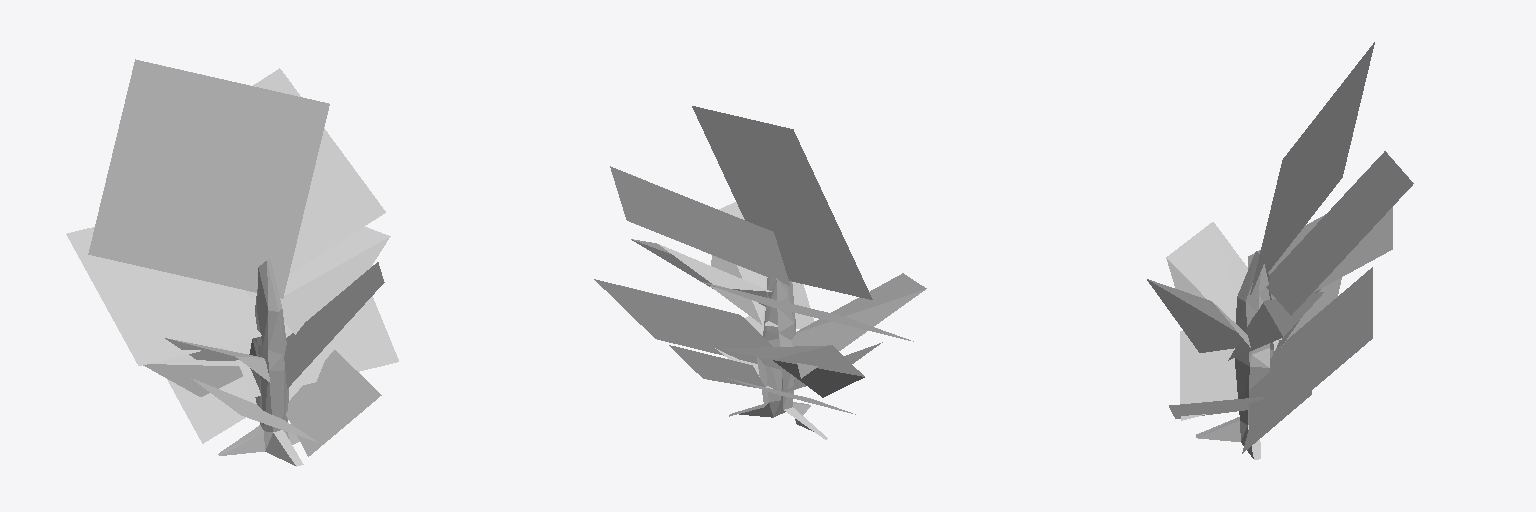
File: Cut Tree.obj
3 renders of one model, left to right at view 1: azimuth 30°, elevation 25°; view 2: azimuth 150°, elevation 25°; view 3: azimuth 270°, elevation 25°, orthographic.
Parts seen in each view (by area): view 1: Cut_Tree; view 2: Cut_Tree; view 3: Cut_Tree.
Part boxes in pixels (left/top/right/bottom): Cut_Tree: left=66, top=59, right=398, bottom=466; Cut_Tree: left=594, top=106, right=926, bottom=439; Cut_Tree: left=1147, top=42, right=1413, bottom=459.
Bounding box in the file's own units: 1.17 × 1.47 × 0.9941.